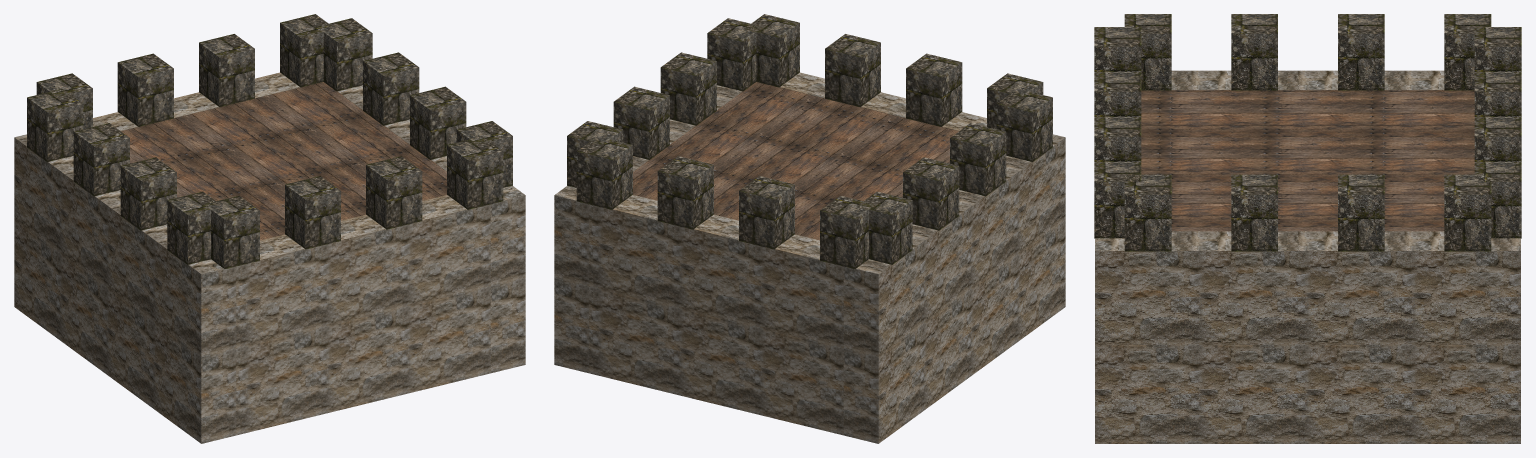
The model's file is turm_quadratisch_zinnen_8m.glb.
3 views of the same model, side by side, from view 1: azimuth 30°, elevation 25°; view 2: azimuth 150°, elevation 25°; view 3: azimuth 270°, elevation 25° (orthographic). The views are drawn at different scales.
Parts seen in each view (by area): view 1: part_tuffmauer_moertel, part_tuffstein_moosig, part_holz_eiche_altert; view 2: part_tuffmauer_moertel, part_tuffstein_moosig, part_holz_eiche_altert; view 3: part_tuffmauer_moertel, part_tuffstein_moosig, part_holz_eiche_altert.
Boxes of the visible parts, left/top/right/bottom form: part_tuffmauer_moertel: left=14, top=72, right=525, bottom=443; part_tuffstein_moosig: left=27, top=14, right=512, bottom=269; part_holz_eiche_altert: left=121, top=82, right=446, bottom=240; part_tuffmauer_moertel: left=554, top=72, right=1065, bottom=443; part_tuffstein_moosig: left=567, top=14, right=1052, bottom=269; part_holz_eiche_altert: left=633, top=82, right=958, bottom=240; part_tuffmauer_moertel: left=1095, top=70, right=1520, bottom=443; part_tuffstein_moosig: left=1094, top=14, right=1521, bottom=251; part_holz_eiche_altert: left=1141, top=90, right=1474, bottom=231.
Bounding box in the file's own units: 8.02 × 5.17 × 8.02.
Materials: 4 (4 with a texture image).
